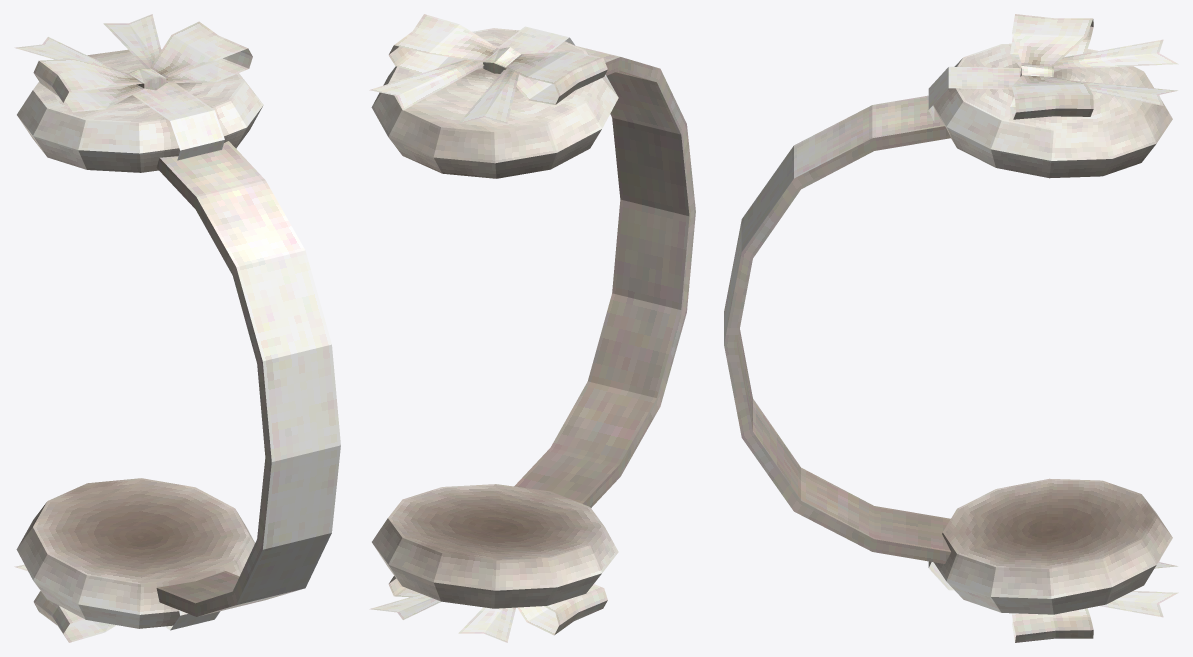
Rendered from options637.obj.
3 views of the same model, side by side, from view 1: azimuth 30°, elevation 25°; view 2: azimuth 150°, elevation 25°; view 3: azimuth 270°, elevation 25° (orthographic).
Parts seen in each view (by area): view 1: options637; view 2: options637; view 3: options637.
Part boxes in pixels (x1,y1,x2,y2): options637: (14,14,340,642); options637: (369,14,695,642); options637: (724,14,1178,642).
Bounding box in the file's own units: 0.2271 × 0.5584 × 0.424.
Materials: 1 (1 with a texture image).
